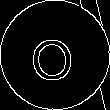O_N: (31, 27, 79, 83)
